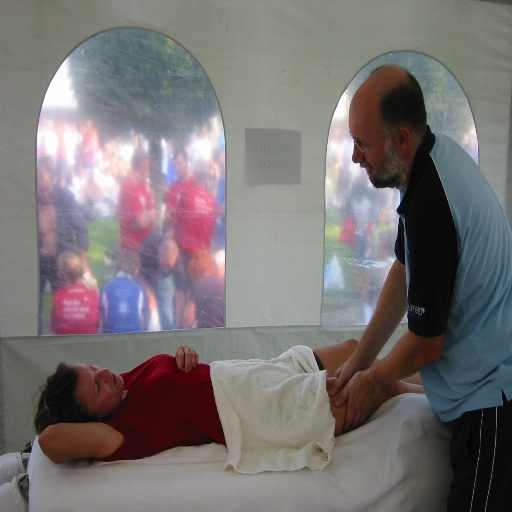hand: (329, 354, 371, 395), (174, 345, 199, 372), (148, 209, 156, 223), (148, 295, 156, 309), (83, 263, 92, 275), (185, 288, 189, 300)
